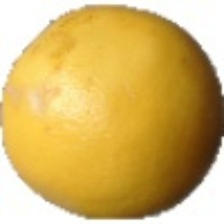grapes: (0, 1, 191, 181)
